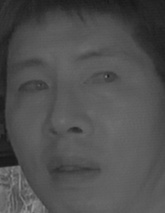eye: (15, 76, 52, 98), (84, 68, 121, 90)
mouth: (41, 149, 103, 185)
